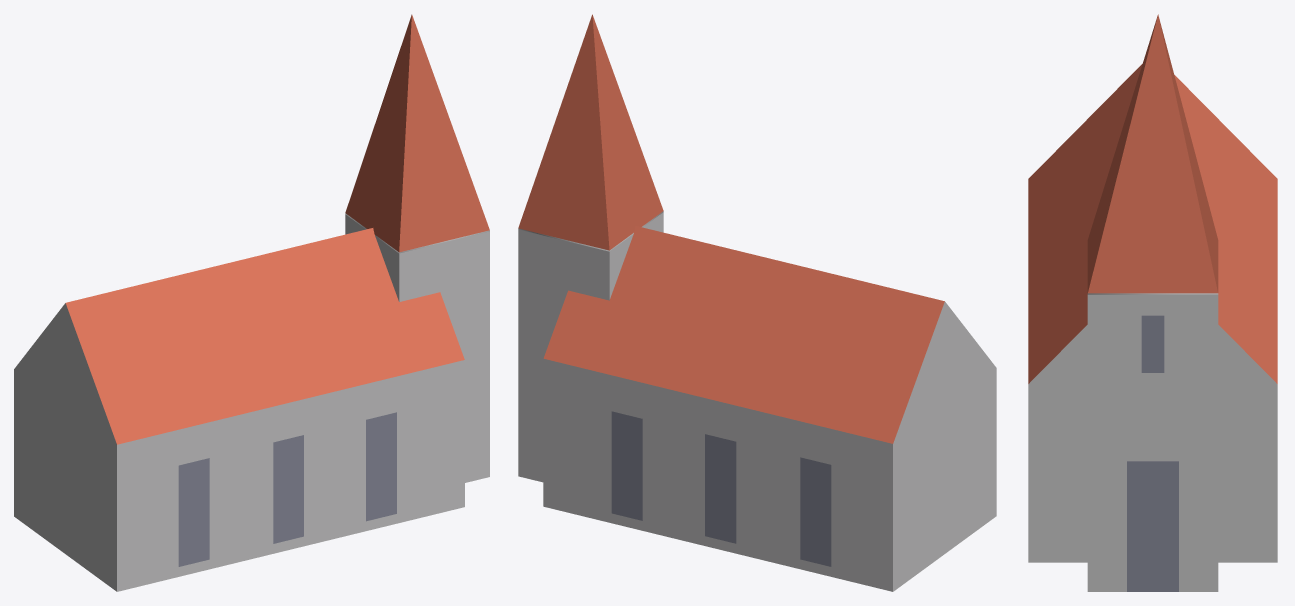
The model's file is church01.dae.
3 renders of one model, left to right at view 1: azimuth 30°, elevation 25°; view 2: azimuth 150°, elevation 25°; view 3: azimuth 270°, elevation 25°, orthographic. The views are drawn at different scales.
Parts seen in each view (by area): view 1: church; view 2: church; view 3: church.
Boxes of the visible parts, x1,y1,x2,y2 form: church: [14, 14, 489, 591]; church: [518, 14, 996, 591]; church: [1028, 14, 1277, 591].
Bounding box in the file's own units: 4.49 × 2.05 × 4.86.
